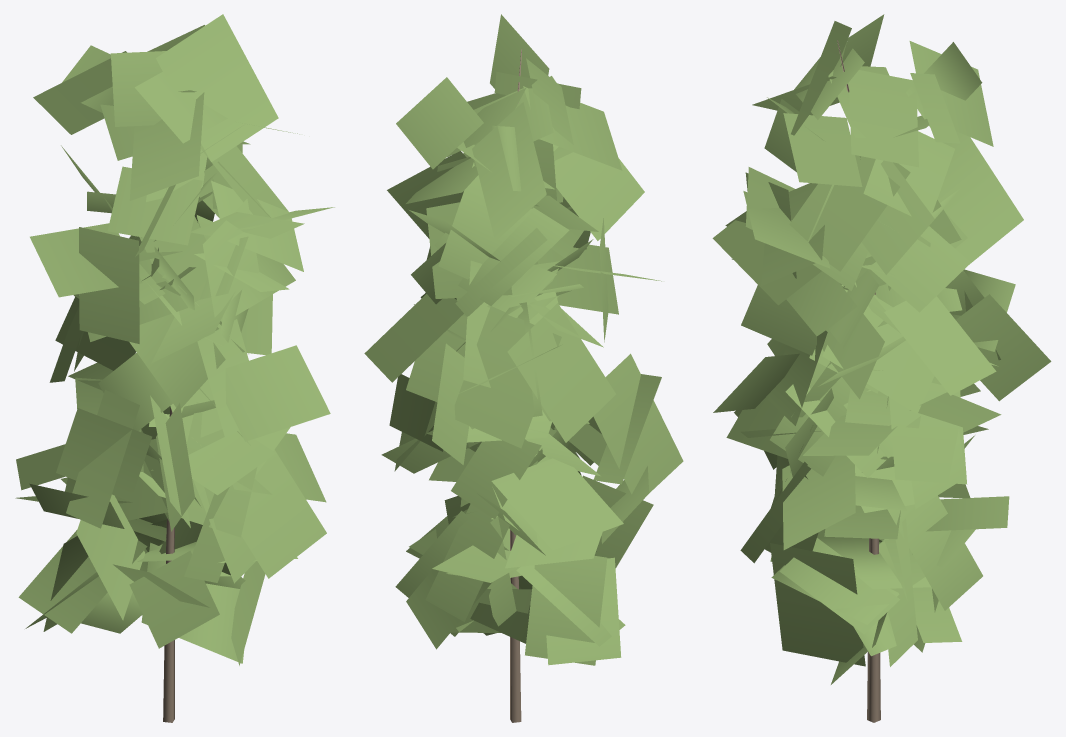
Rendered from Birch_12_young_lod2.glb.
3 renders of one model, left to right at view 1: azimuth 30°, elevation 25°; view 2: azimuth 150°, elevation 25°; view 3: azimuth 270°, elevation 25°, orthographic. The views are drawn at different scales.
Visible parts, largest first — view 1: Birch_12_young_lod2; view 2: Birch_12_young_lod2; view 3: Birch_12_young_lod2.
Part boxes in pixels (<box>): Birch_12_young_lod2: <box>15,14,334,722</box>; Birch_12_young_lod2: <box>364,14,683,722</box>; Birch_12_young_lod2: <box>712,14,1051,722</box>.
Bounding box in the file's own units: 3.55 × 9.32 × 4.
